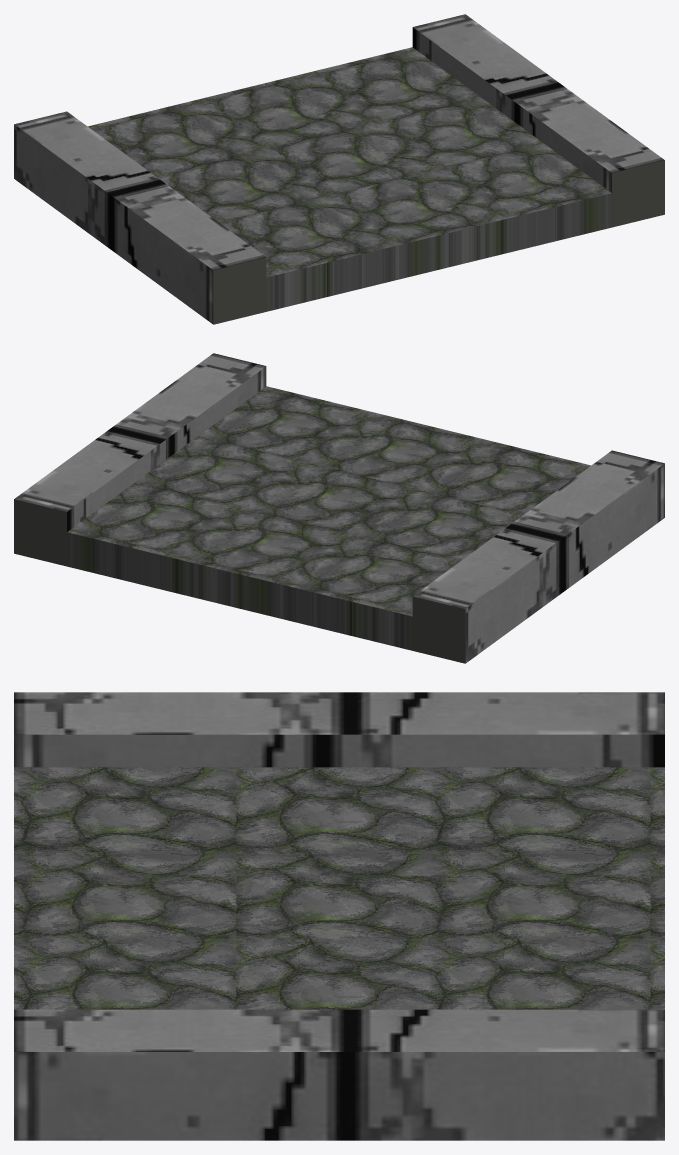
The model's file is SM_Modular_Road_02.fbx.
The picture shows the model from 3 angles, top to bottom: view 1: azimuth 30°, elevation 25°; view 2: azimuth 150°, elevation 25°; view 3: azimuth 270°, elevation 25°; orthographic projection. The views are drawn at different scales.
Parts seen in each view (by area): view 1: SM_Modular_Road_02; view 2: SM_Modular_Road_02; view 3: SM_Modular_Road_02.
Part boxes in pixels (x1,y1,x2,y2): SM_Modular_Road_02: [14, 14, 664, 324]; SM_Modular_Road_02: [14, 353, 664, 663]; SM_Modular_Road_02: [14, 692, 664, 1140].
Bounding box in the file's own units: 261 × 30.11 × 200.
Materials: 2 (2 with a texture image).
